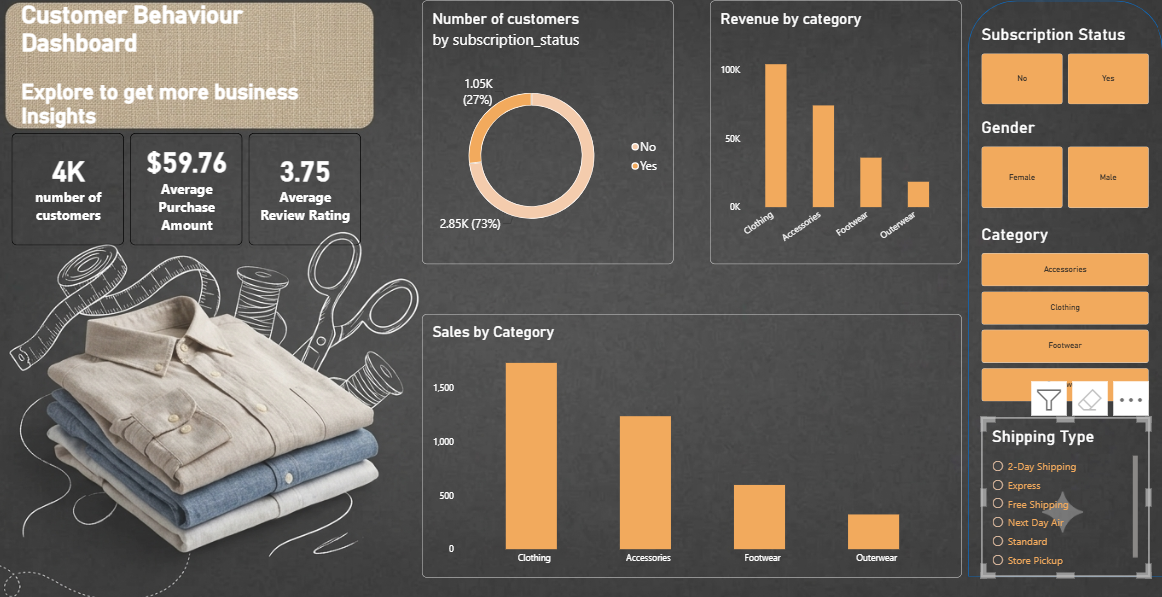

What the dashboard file says about the page in this screenshot:
{"tool":"powerbi","page":{"name":"Page 1","canvas":[1920,1080],"ordinal":0},"visuals":[{"type":"cardVisual","fields":{"Data":["clothing_brand_db customers.Average Review Rating"]},"box":[458.3,275,190,190],"z":0},{"type":"cardVisual","fields":{"Data":["clothing_brand_db customers.number of customers"]},"box":[80.6,275,190,190],"z":1000},{"type":"cardVisual","fields":{"Data":["clothing_brand_db customers.Average Purchase Amount"]},"box":[269.4,275,190,190],"z":2000},{"type":"donutChart","title":"Number of customers","fields":{"Category":["clothing_brand_db customers.subscription_status"],"Y":["CountNonNull(clothing_brand_db customers.customer_id)"]},"box":[738.9,69.4,400,419.4],"z":3000},{"type":"textbox","box":[102.8,69.4,544.4,205.6],"z":4000},{"type":"clusteredColumnChart","title":"Revenue by category","fields":{"Category":["clothing_brand_db customers.category"],"Y":["Sum(clothing_brand_db customers.purchase_amount)"]},"box":[1197.2,69.4,400,419],"z":5000},{"type":"clusteredColumnChart","title":"Sales by Category","fields":{"Category":["clothing_brand_db customers.category"],"Y":["CountNonNull(clothing_brand_db customers.customer_id)"]},"box":[738.9,566.7,858.3,419.4],"z":6000},{"type":"shape","box":[1608.3,69.4,311.1,916.7],"z":7000},{"type":"advancedSlicerVisual","title":"Subscription Status","fields":{"Values":["clothing_brand_db customers.subscription_status"]},"box":[1630.6,108.3,266.7,127.8],"z":8000},{"type":"advancedSlicerVisual","title":"Gender","fields":{"Values":["clothing_brand_db customers.gender"]},"box":[1630.6,255.6,266.7,144.4],"z":8001},{"type":"advancedSlicerVisual","title":"Category","fields":{"Values":["clothing_brand_db customers.category"]},"box":[1630.6,425,266.7,283.3],"z":8002},{"type":"listSlicer","title":"Shipping Type","fields":{"Values":["clothing_brand_db customers.shipping_type"]},"box":[1630.6,733.3,266.7,252.8],"z":8003}]}

Visuals, with their boxes on the page's 1920x1080 design canvas (x1, y1, x2, y2). These are canvas units, not pixel positions in the 1162x597 screenshot, which may show the page scaled, cropped or inside an application window:
cardVisual - clothing_brand_db customers.Average Review Rating: box=[458, 275, 648, 465]
cardVisual - clothing_brand_db customers.number of customers: box=[81, 275, 271, 465]
cardVisual - clothing_brand_db customers.Average Purchase Amount: box=[269, 275, 459, 465]
"Number of customers" donutChart: box=[739, 69, 1139, 489]
textbox: box=[103, 69, 647, 275]
"Revenue by category" clusteredColumnChart: box=[1197, 69, 1597, 488]
"Sales by Category" clusteredColumnChart: box=[739, 567, 1597, 986]
shape: box=[1608, 69, 1919, 986]
"Subscription Status" advancedSlicerVisual: box=[1631, 108, 1897, 236]
"Gender" advancedSlicerVisual: box=[1631, 256, 1897, 400]
"Category" advancedSlicerVisual: box=[1631, 425, 1897, 708]
"Shipping Type" listSlicer: box=[1631, 733, 1897, 986]
